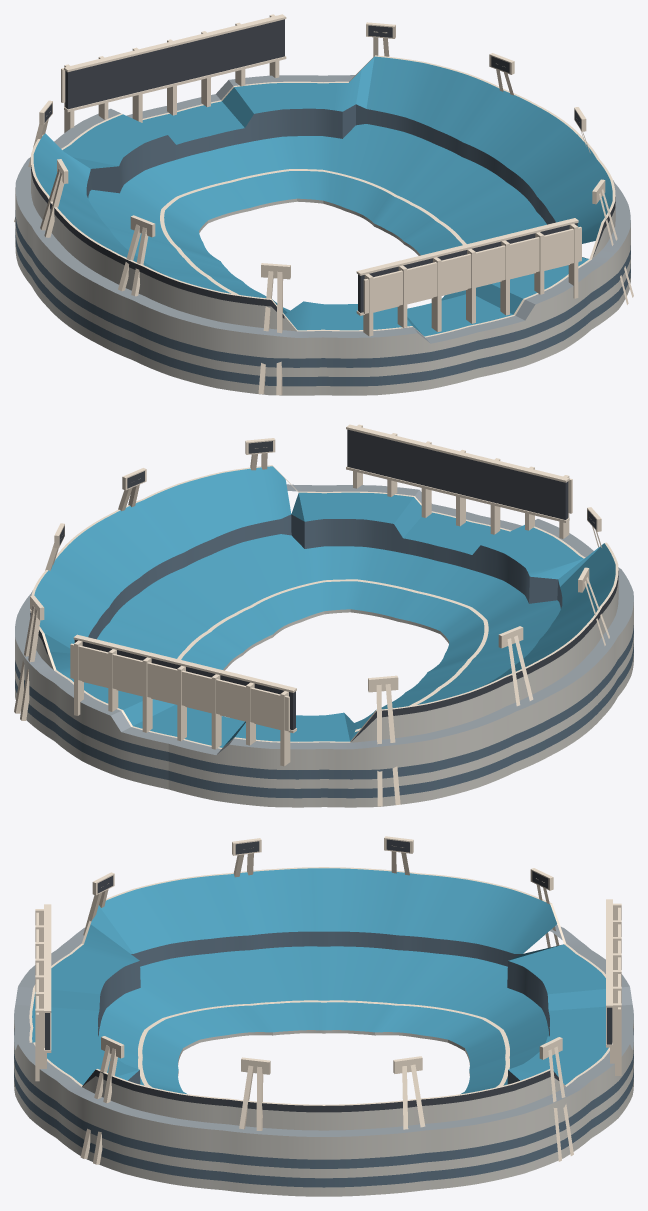
File: jax-everbank-stadium.glb
3 renders of one model, top to bottom at view 1: azimuth 30°, elevation 25°; view 2: azimuth 150°, elevation 25°; view 3: azimuth 270°, elevation 25°, orthographic.
Visible parts, largest first — view 1: EverBank Stadium; view 2: EverBank Stadium; view 3: EverBank Stadium.
Part boxes in pixels (x1,y1,x2,y2): EverBank Stadium: (14,14,633,395); EverBank Stadium: (14,424,633,807); EverBank Stadium: (14,836,633,1196).
Bounding box in the file's own units: 258 × 61 × 273.
